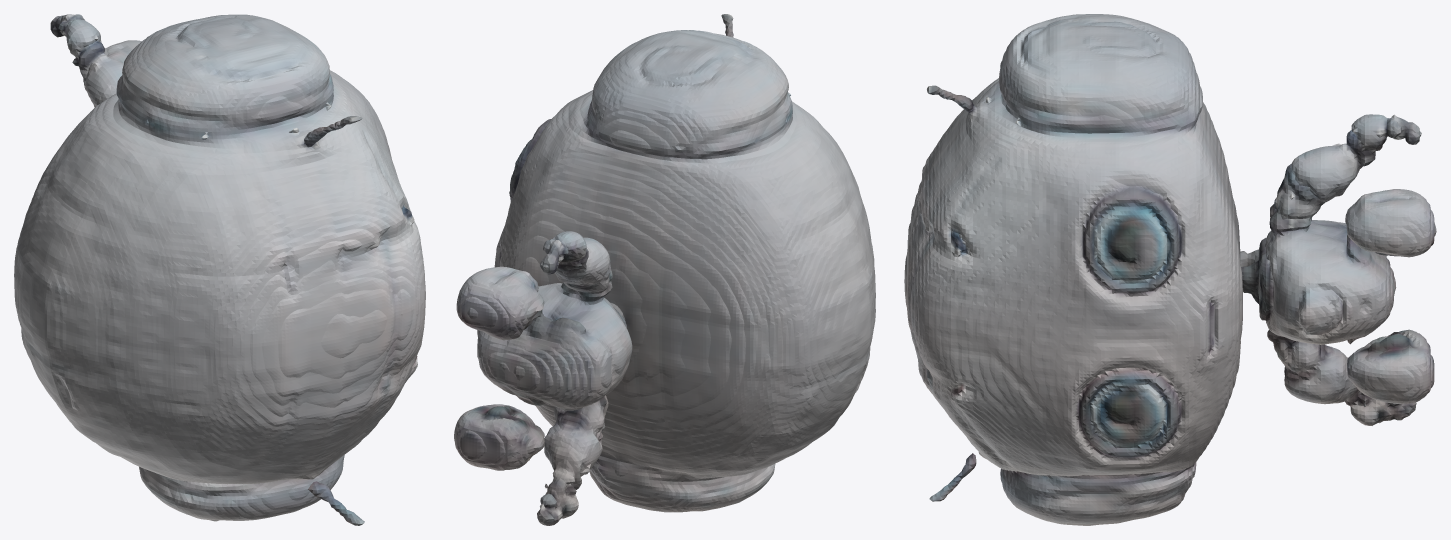
Rendered from robot.glb.
The picture shows the model from 3 angles, left to right: view 1: azimuth 30°, elevation 25°; view 2: azimuth 150°, elevation 25°; view 3: azimuth 270°, elevation 25°; orthographic projection. The views are drawn at different scales.
Visible parts, largest first — view 1: mesh.obj; view 2: mesh.obj; view 3: mesh.obj.
Boxes of the visible parts, box(x1,y1,x2,y2) form: mesh.obj: box(14, 14, 425, 525); mesh.obj: box(454, 14, 875, 525); mesh.obj: box(904, 14, 1436, 525).
Size of the model in its own units: 0.7575 by 0.9662 by 0.991.
